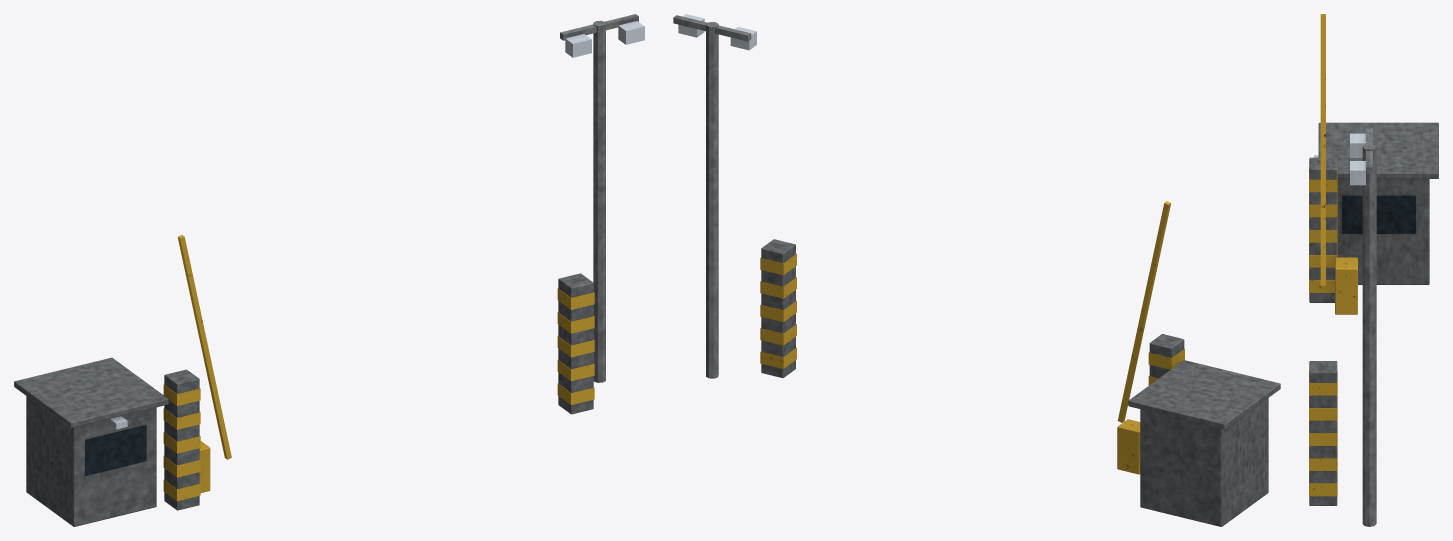
File: city_yard_gate.glb
3 renders of one model, left to right at view 1: azimuth 30°, elevation 25°; view 2: azimuth 150°, elevation 25°; view 3: azimuth 270°, elevation 25°, orthographic. The views are drawn at different scales.
Parts seen in each view (by area): view 1: city_yard_gate; view 2: city_yard_gate; view 3: city_yard_gate.
Part boxes in pixels (x1=…): city_yard_gate: x1=14, y1=14, x2=644, y2=526; city_yard_gate: x1=673, y1=14, x2=1280, y2=526; city_yard_gate: x1=1309, y1=14, x2=1438, y2=526.
Size of the model in its own units: 15.6 by 9 by 2.81.
4 materials, 4 textured.
